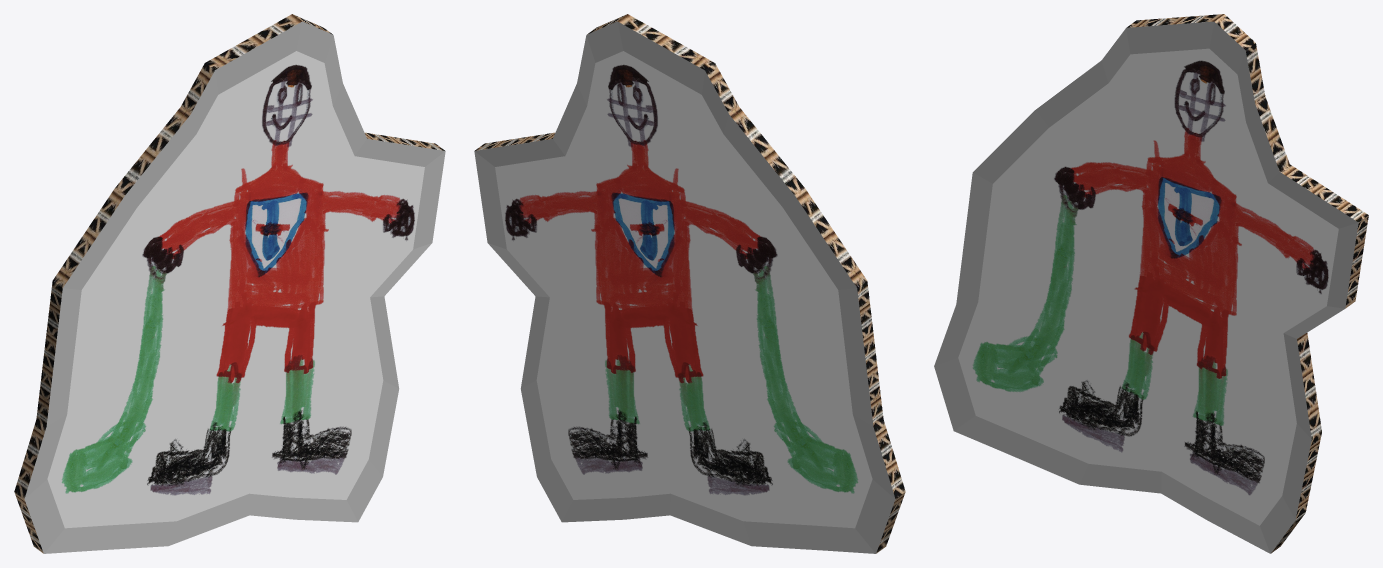
The model's file is KiekkoilijaPunainen2.fbx.
The picture shows the model from 3 angles, left to right: view 1: azimuth 30°, elevation 25°; view 2: azimuth 150°, elevation 25°; view 3: azimuth 330°, elevation 25°; orthographic projection.
Parts seen in each view (by area): view 1: KiekkoilijaPunainen2; view 2: KiekkoilijaPunainen2; view 3: KiekkoilijaPunainen2.
Boxes of the visible parts, bbox=[...] form: KiekkoilijaPunainen2: bbox=[14, 14, 445, 553]; KiekkoilijaPunainen2: bbox=[474, 14, 905, 553]; KiekkoilijaPunainen2: bbox=[934, 14, 1368, 553].
Bounding box in the file's own units: 191 × 223 × 7.98.
